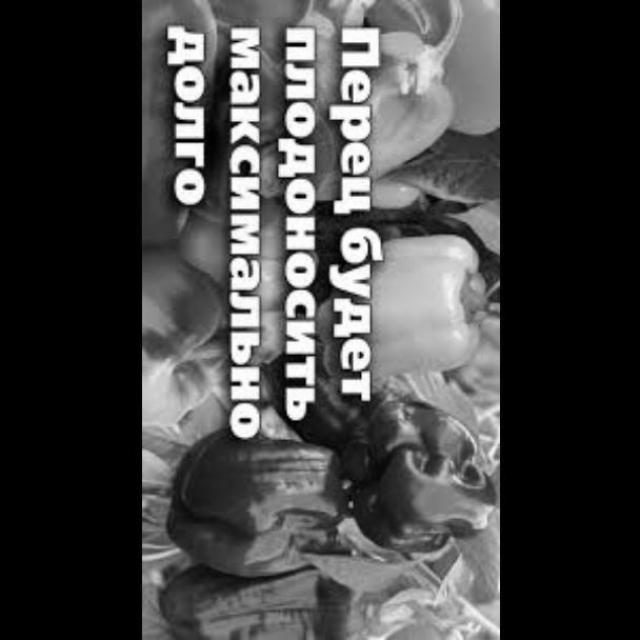bell pepper: (314, 15, 467, 200), (166, 429, 356, 577), (320, 226, 486, 389), (330, 229, 499, 377), (344, 399, 494, 553), (223, 18, 320, 245), (142, 0, 226, 261), (160, 544, 371, 639), (142, 249, 243, 433), (418, 0, 500, 164)
